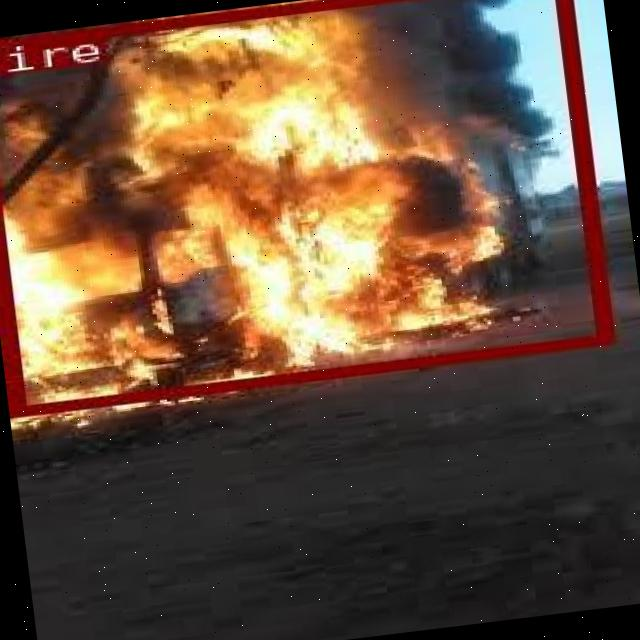fire: (0, 0, 607, 413)
